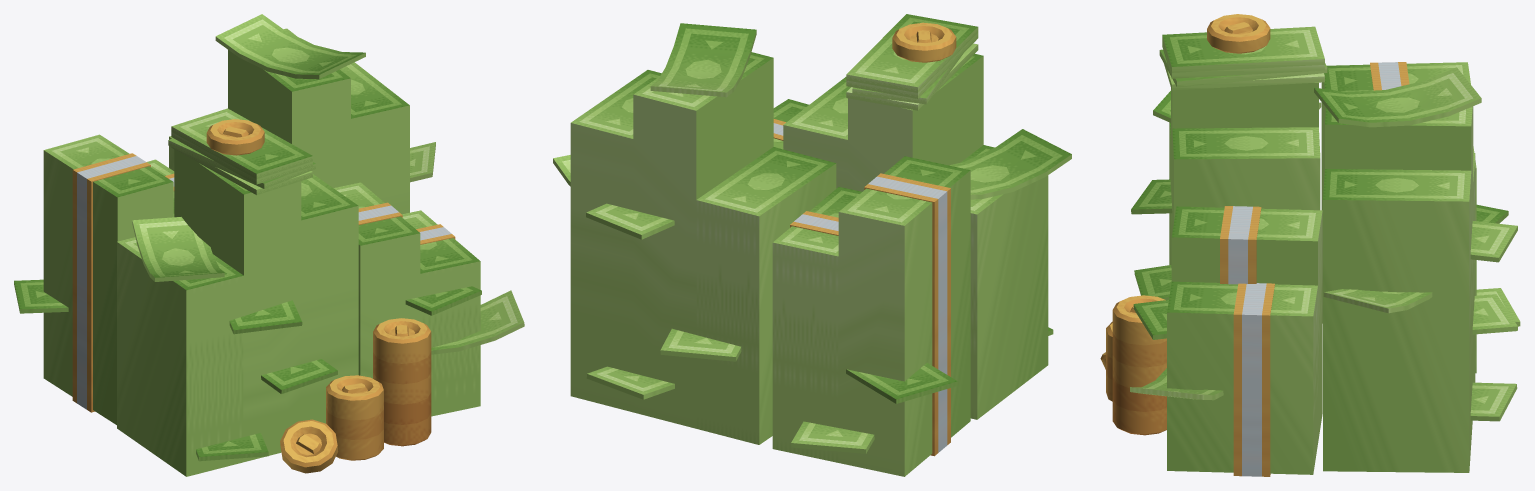
The model's file is money-pile-large.glb.
3 views of the same model, side by side, from view 1: azimuth 30°, elevation 25°; view 2: azimuth 150°, elevation 25°; view 3: azimuth 270°, elevation 25° (orthographic). The views are drawn at different scales.
Visible parts, largest first — view 1: Money_Pile_Large; view 2: Money_Pile_Large; view 3: Money_Pile_Large.
Boxes of the visible parts, x1,y1,x2,y2 form: Money_Pile_Large: (14, 14, 524, 476); Money_Pile_Large: (553, 14, 1071, 476); Money_Pile_Large: (1100, 14, 1520, 476).
Size of the model in its own units: 1.92 by 1.44 by 1.63.
1 material, 1 textured.
